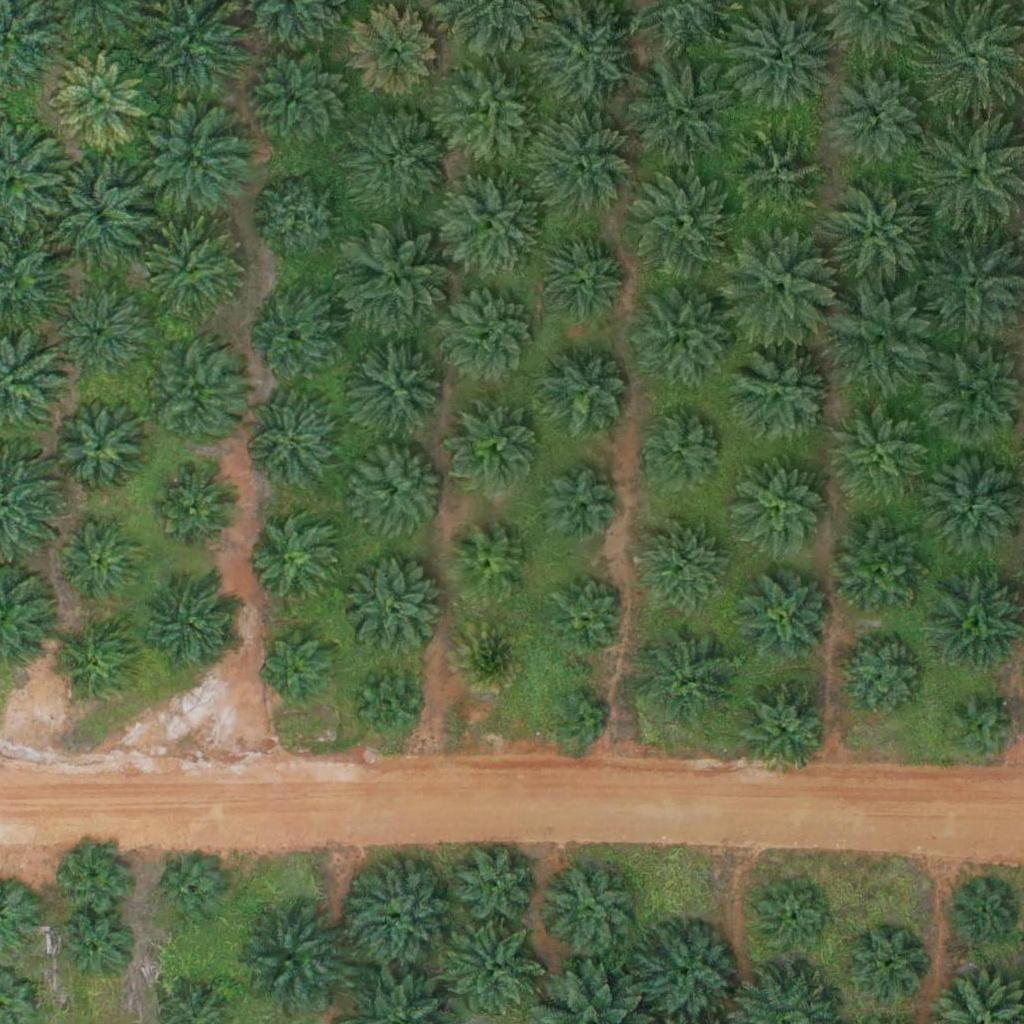Kelapa_Sawit: (136, 108, 249, 222), (820, 173, 933, 286), (45, 157, 157, 271), (826, 280, 938, 393), (724, 229, 836, 342), (623, 168, 735, 281), (627, 55, 739, 168), (345, 231, 457, 344), (833, 402, 933, 503), (832, 519, 932, 620), (731, 344, 831, 445), (730, 460, 830, 561), (634, 288, 734, 389), (531, 110, 631, 211), (442, 61, 542, 162), (249, 47, 349, 148), (351, 107, 451, 208), (144, 575, 244, 676), (345, 862, 445, 963), (733, 677, 833, 777), (639, 627, 739, 727), (441, 173, 541, 273), (439, 284, 539, 384), (143, 223, 243, 323), (147, 355, 247, 455), (349, 441, 449, 541), (345, 559, 445, 659), (444, 919, 544, 1019), (734, 130, 822, 219), (54, 617, 142, 706), (838, 633, 926, 721), (452, 404, 540, 492), (349, 8, 437, 96), (52, 287, 140, 375), (54, 404, 142, 492), (355, 344, 443, 432), (156, 465, 244, 553), (57, 516, 145, 604), (743, 573, 830, 661), (637, 404, 724, 492), (639, 516, 726, 604), (536, 234, 623, 322), (542, 353, 629, 441), (835, 73, 922, 161), (56, 53, 143, 141), (257, 175, 344, 263), (258, 293, 345, 381), (249, 399, 336, 487), (255, 518, 342, 606), (450, 840, 537, 928), (544, 866, 631, 954), (452, 529, 527, 605), (542, 468, 617, 544), (755, 883, 830, 959), (944, 692, 1019, 768), (549, 577, 624, 653), (453, 618, 528, 694), (351, 667, 426, 743), (852, 927, 927, 1002), (261, 626, 336, 701), (51, 837, 126, 912), (55, 915, 130, 990), (153, 852, 228, 927), (953, 881, 1016, 944), (551, 690, 613, 753)
